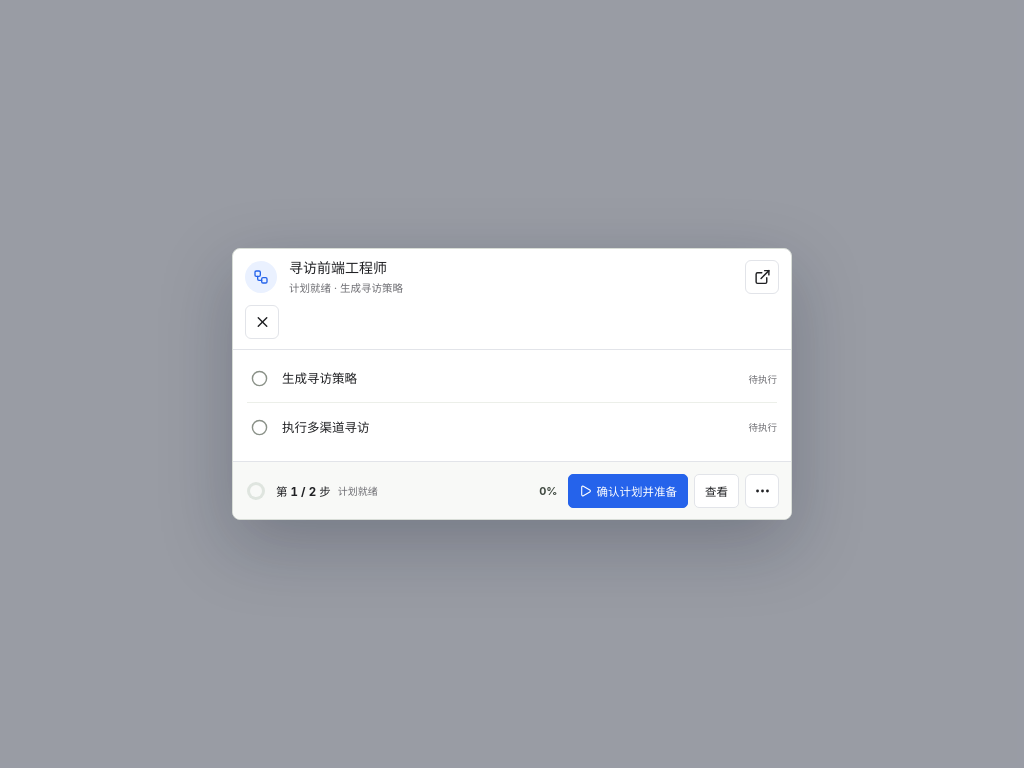
it: 轻量工作流浮层 › 确认计划写入失败时保留启动入口
This screenshot has width=1024, height=768.
Click the button "确认计划并准备" at (628, 491), box [568,474,688,508]
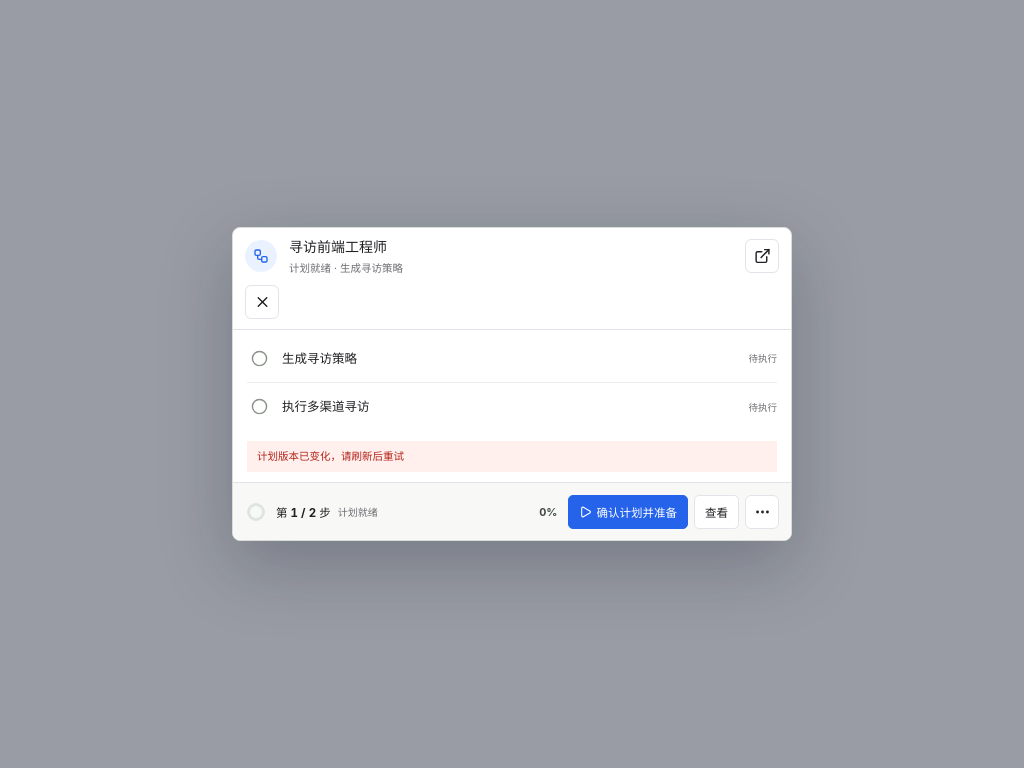
Expected: the button "确认计划并准备" is enabled, [568,494,688,528]
Expected: the message reads "计划版本已变化，请刷新后重试", [257,450,404,463]
